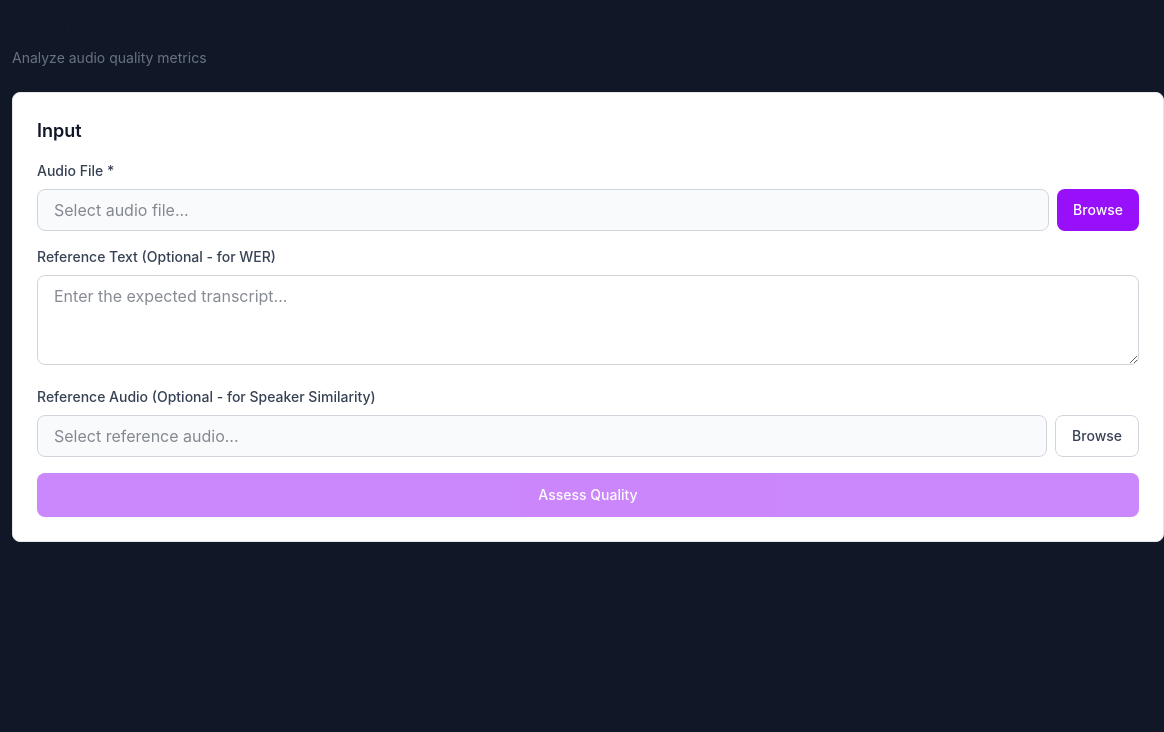
Scenario: QualityDashboard › File Selection › should enable assess button after file selection
Check: the button "Assess Quality" is disabled, box [37,473,1139,517]
Click the button with aria-label "browse audio file" at (1098, 210), box [1057,189,1139,231]
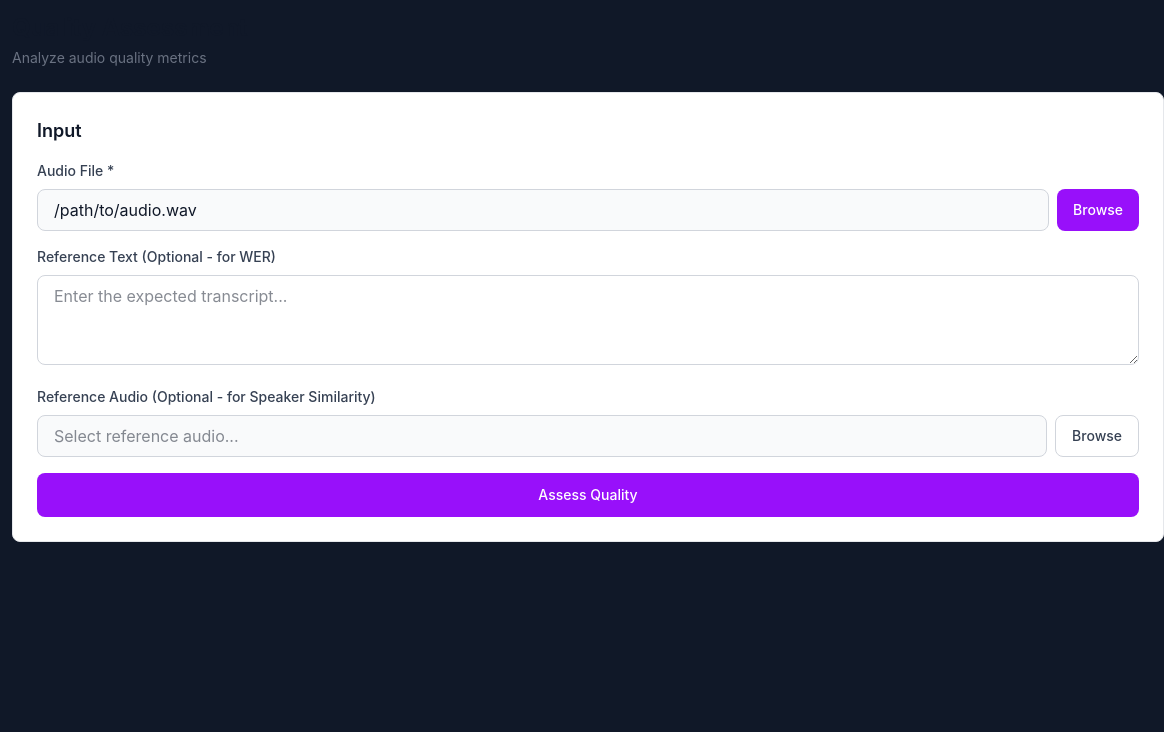
Check: the button "Assess Quality" is enabled, box [37,473,1139,517]
